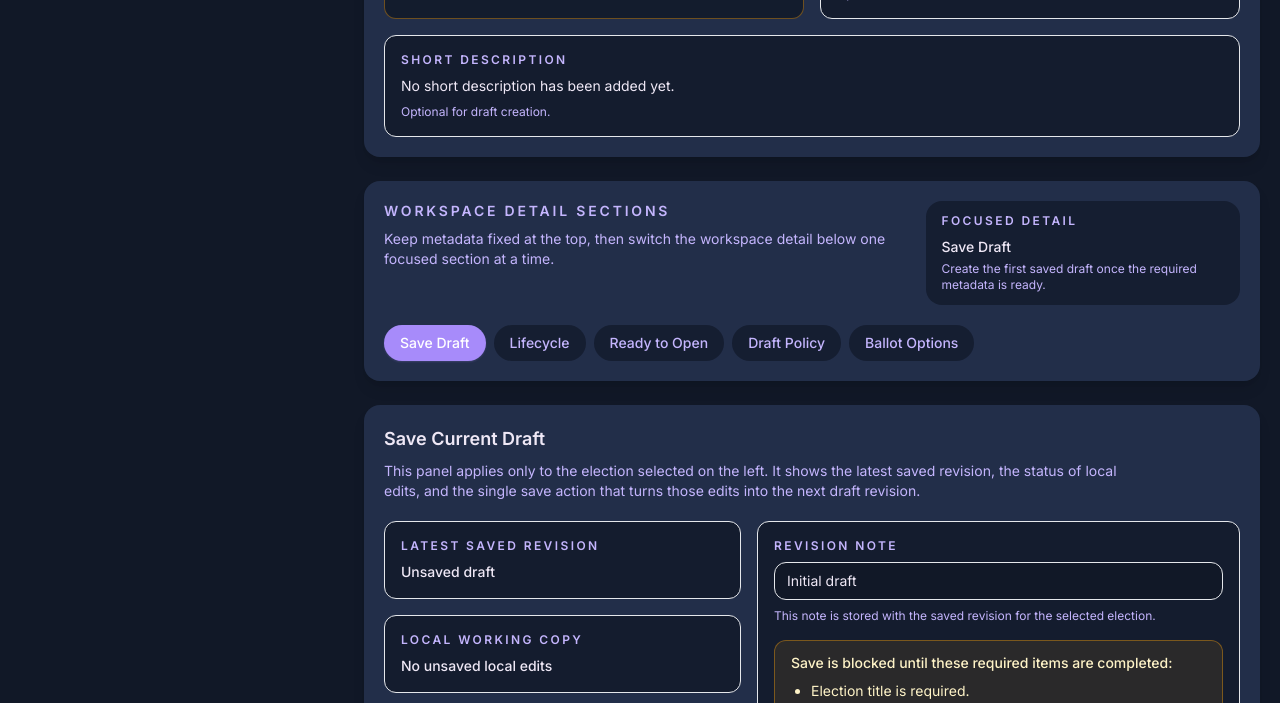
it: ElectionsWorkspace › shows protocol package refs as pending before a local draft is saved
(page scrolled)
What coordinates should you click on to do the following:
click the button "Lifecycle"
I would click on:
 (540, 343)
Its box is [494, 325, 586, 361].
(page scrolled)
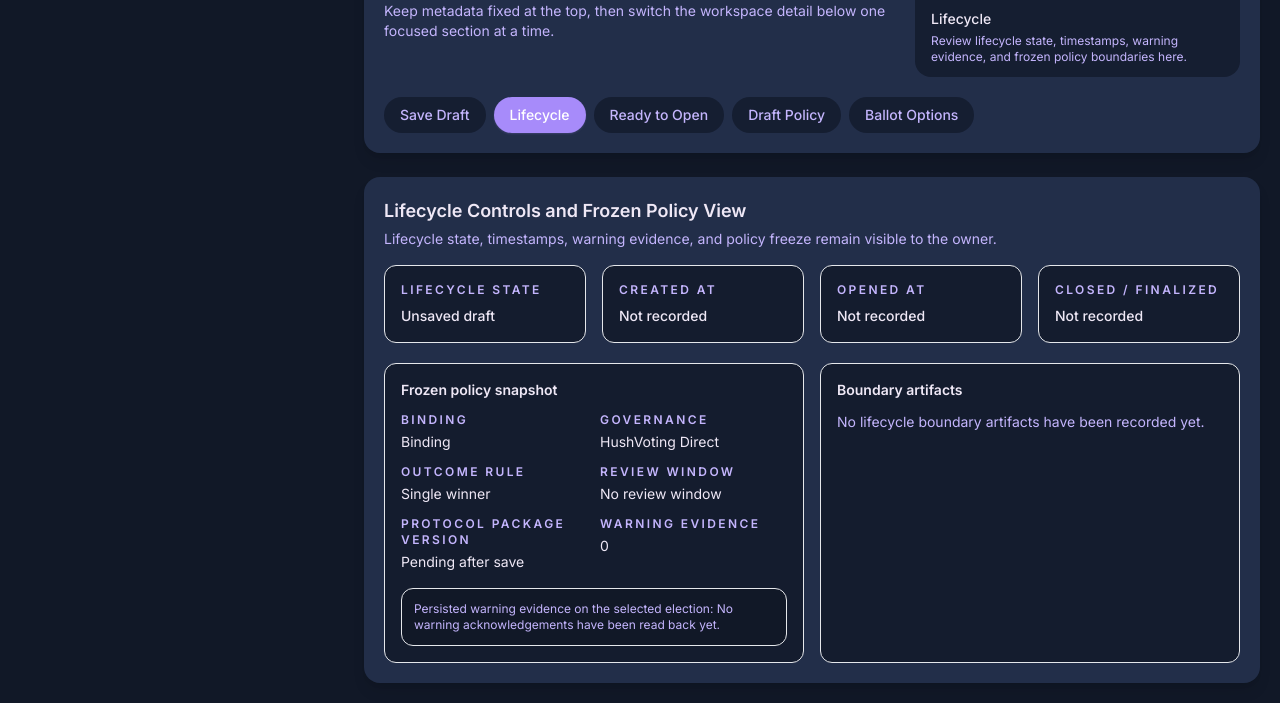
expect the element with test id "elections-frozen-policy" does not show "omega-v1.0.0": met, box [384, 363, 804, 663]
expect the element with test id "elections-frozen-policy" shows "Protocol package version": met, box [401, 516, 565, 547]
expect the element with test id "elections-frozen-policy" shows "Pending after save": met, box [401, 553, 524, 570]
